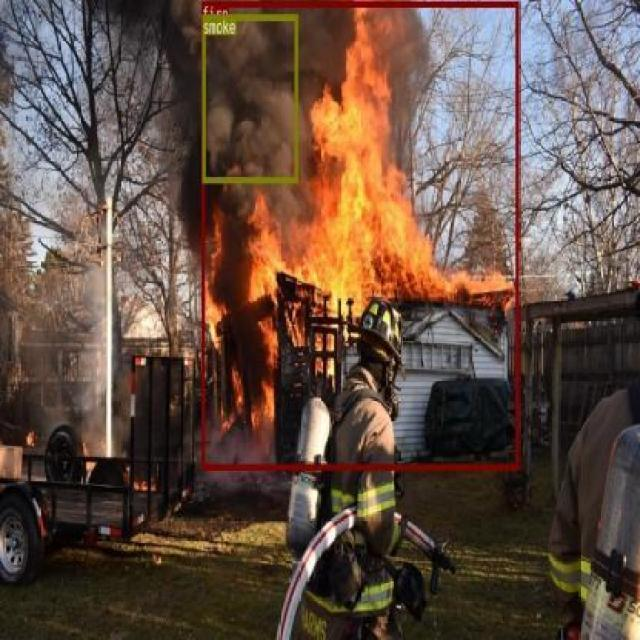Fire: (204, 192, 524, 330), (312, 5, 448, 307), (198, 305, 325, 453)
Smoke: (112, 0, 360, 278), (380, 0, 447, 183)
